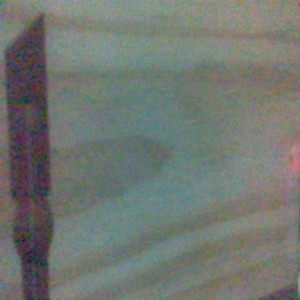cutter: (2, 12, 56, 300)
